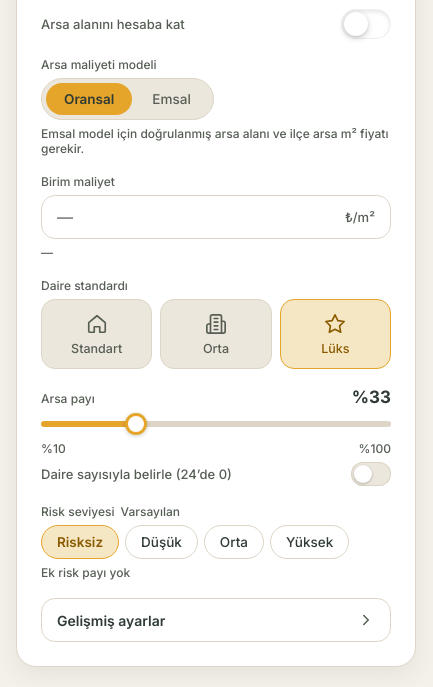
Scenario: /hesapla — masaüstü Gelişmiş ayarlar (sol kartta açılır bölüm) › "Gelişmiş ayarlar" satırı açılır; İksa maliyeti, Müteahhit kâr hedefi ve piyasa fiyatı gelir
This screenshot has width=433, height=687.
(page scrolled)
Click the button "Gelişmiş ayarlar": (111, 620) [41,598,391,642]
(page scrolled)
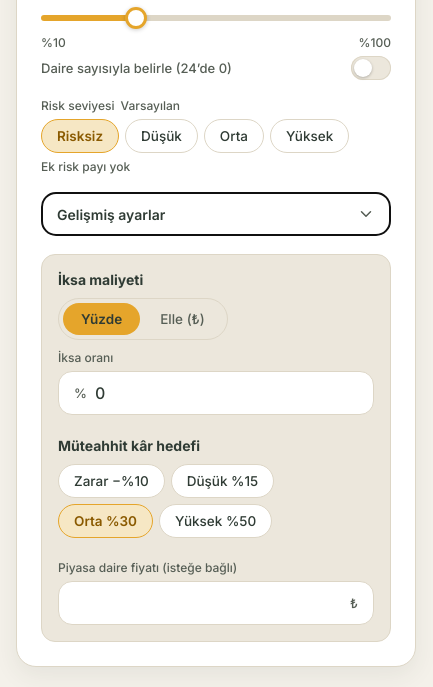
Expected: the button "Gelişmiş ayarlar" is expanded, [41,192,391,236]
Expected: the text "İksa maliyeti" is shown, [58,271,143,288]
Expected: the text "Müteahhit kâr hedefi" is shown, [58,437,200,454]
